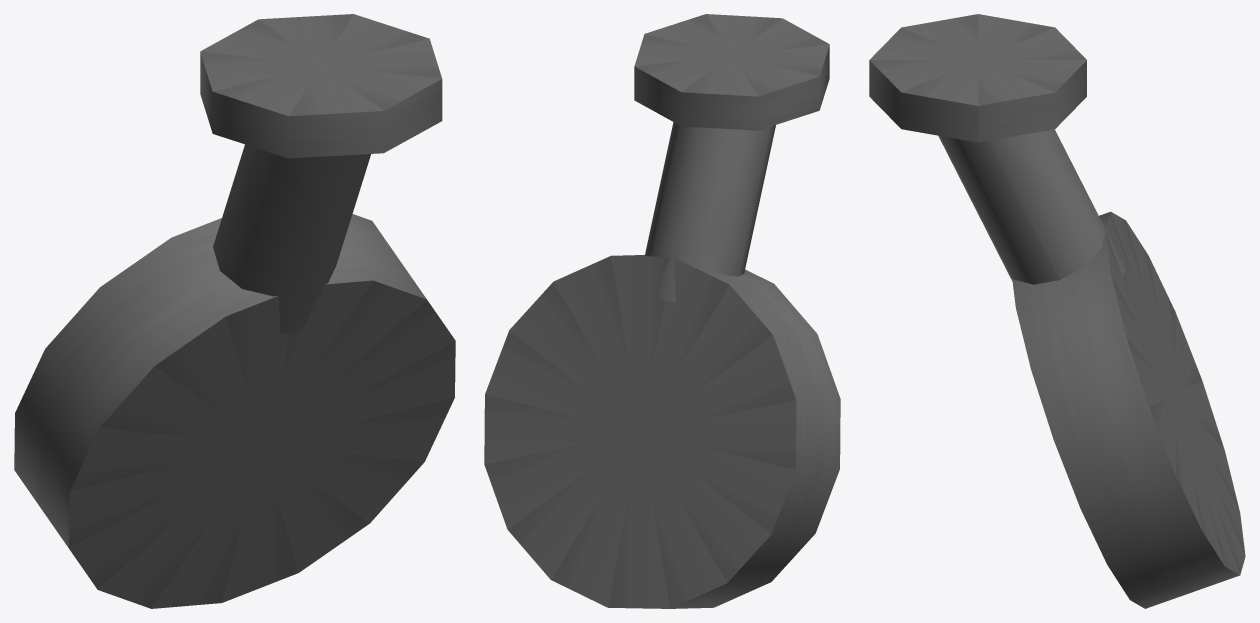
File: mastarmcurve_8x2_c2_up.obj
3 renders of one model, left to right at view 1: azimuth 30°, elevation 25°; view 2: azimuth 150°, elevation 25°; view 3: azimuth 270°, elevation 25°, orthographic. The views are drawn at different scales.
Parts seen in each view (by area): view 1: mastarm_8x2_c2_up; view 2: mastarm_8x2_c2_up; view 3: mastarm_8x2_c2_up.
Part boxes in pixels (x1=…): mastarm_8x2_c2_up: x1=14, y1=14, x2=455, y2=608; mastarm_8x2_c2_up: x1=484, y1=14, x2=840, y2=608; mastarm_8x2_c2_up: x1=869, y1=14, x2=1245, y2=608.
Bounding box in the file's own units: 0.7098 × 1.07 × 0.6912.
